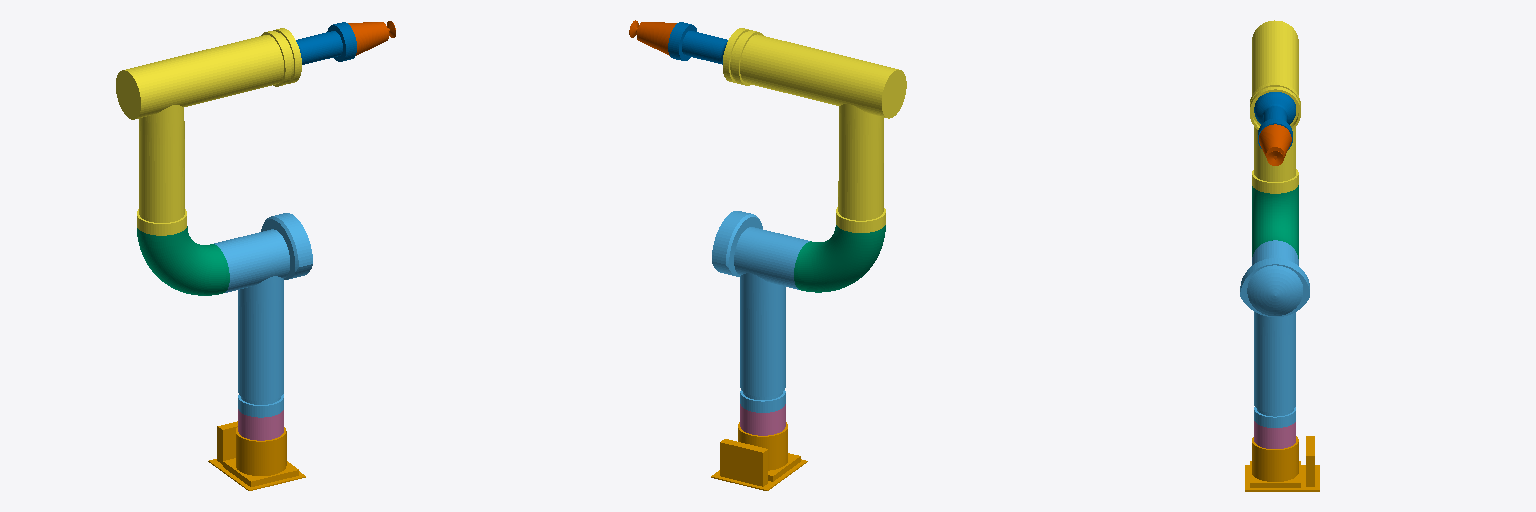
URDF robot description (ROBOT_FINAL):
<?xml version="1.0" ?>
<robot name="ROBOT_FINAL">

<material name="silver">
  <color rgba="0.700 0.700 0.700 1.000"/>
</material>

<link name="base_link">
  <inertial>
    <origin xyz="0.00861165624050476 0.03165198883833275 0.09085900142674198" rpy="0 0 0"/>
    <mass value="59.1763534960198"/>
    <inertia ixx="0.5034819245640307" iyy="0.34784665435084416" izz="0.5168101976932871" ixy="2.8102520310824275e-15" iyz="0.009585805374626555" ixz="2.851885394505871e-15"/>
  </inertial>
  <visual>
    <origin xyz="0 0 0" rpy="0 0 0"/>
    <geometry>
      <mesh filename="package://robot1/meshes/base_link.stl" scale="0.001 0.001 0.001"/>
    </geometry>
    <material name="silver"/>
    <material/>
  </visual>
  <collision>
    <origin xyz="0 0 0" rpy="0 0 0"/>
    <geometry>
      <mesh filename="package://robot1/meshes/base_link.stl" scale="0.001 0.001 0.001"/>
    </geometry>
  </collision>
</link>

<link name="link_21">
  <inertial>
    <origin xyz="0.006220231055899613 -3.6787391581756534e-07 0.07992479144085196" rpy="0 0 0"/>
    <mass value="146.86583673120967"/>
    <inertia ixx="4.65837345479477" iyy="5.6411159808055515" izz="1.9550553816715002" ixy="-3.221665925406264e-07" iyz="-7.389164304871798e-07" ixz="-0.18727235471533765"/>
  </inertial>
  <visual>
    <origin xyz="-0.008612 -0.006119 -0.78954" rpy="0 0 0"/>
    <geometry>
      <mesh filename="package://robot1/meshes/link21.stl" scale="0.001 0.001 0.001"/>
    </geometry>
    <material name="silver"/>
    <material/>
  </visual>
  <collision>
    <origin xyz="-0.008612 -0.006119 -0.78954" rpy="0 0 0"/>
    <geometry>
      <mesh filename="package://robot1/meshes/link21.stl" scale="0.001 0.001 0.001"/>
    </geometry>
  </collision>
</link>

<link name="link_31">
  <inertial>
    <origin xyz="-0.1652794828573811 -3.181455388474863e-07 0.08405601089867587" rpy="0 0 0"/>
    <mass value="96.59806143551319"/>
    <inertia ixx="0.9710338527616926" iyy="1.4630228641898668" izz="0.9749793186022746" ixy="-1.5892842597509116e-13" iyz="3.9546144137148076e-13" ixz="0.49155268323664103"/>
  </inertial>
  <visual>
    <origin xyz="0.191388 -0.006119 -0.93954" rpy="0 0 0"/>
    <geometry>
      <mesh filename="package://robot1/meshes/link31.stl" scale="0.001 0.001 0.001"/>
    </geometry>
    <material name="silver"/>
    <material/>
  </visual>
  <collision>
    <origin xyz="0.191388 -0.006119 -0.93954" rpy="0 0 0"/>
    <geometry>
      <mesh filename="package://robot1/meshes/link31.stl" scale="0.001 0.001 0.001"/>
    </geometry>
  </collision>
</link>

<link name="link_41">
  <inertial>
    <origin xyz="0.06331898441764205 -2.9122443602567355e-07 0.4291680063768162" rpy="0 0 0"/>
    <mass value="213.37931082123225"/>
    <inertia ixx="9.795105757696888" iyy="14.701278799091938" izz="6.041833365708506" ixy="-1.3324239700462925e-07" iyz="-9.086796382007378e-07" ixz="-2.3594740669290957"/>
  </inertial>
  <visual>
    <origin xyz="0.441386 -0.006119 -1.188536" rpy="0 0 0"/>
    <geometry>
      <mesh filename="package://robot1/meshes/link41.stl" scale="0.001 0.001 0.001"/>
    </geometry>
    <material name="silver"/>
    <material/>
  </visual>
  <collision>
    <origin xyz="0.441386 -0.006119 -1.188536" rpy="0 0 0"/>
    <geometry>
      <mesh filename="package://robot1/meshes/link41.stl" scale="0.001 0.001 0.001"/>
    </geometry>
  </collision>
</link>

<link name="link_51">
  <inertial>
    <origin xyz="0.31337225138445246 -3.181455412162512e-07 0.0012575542740496104" rpy="0 0 0"/>
    <mass value="118.41031598874119"/>
    <inertia ixx="0.4308140875560298" iyy="4.9386414583190685" izz="4.938568853789161" ixy="-3.414282745417552e-14" iyz="4.9960036108132044e-14" ixz="-0.018091121766683038"/>
  </inertial>
  <visual>
    <origin xyz="0.348795 -0.006119 -1.788913" rpy="0 0 0"/>
    <geometry>
      <mesh filename="package://robot1/meshes/link51.stl" scale="0.001 0.001 0.001"/>
    </geometry>
    <material name="silver"/>
    <material/>
  </visual>
  <collision>
    <origin xyz="0.348795 -0.006119 -1.788913" rpy="0 0 0"/>
    <geometry>
      <mesh filename="package://robot1/meshes/link51.stl" scale="0.001 0.001 0.001"/>
    </geometry>
  </collision>
</link>

<link name="link_61">
  <inertial>
    <origin xyz="0.06875914473525968 2.509923578626269e-06 0.00028490132131731016" rpy="0 0 0"/>
    <mass value="12.708092342308806"/>
    <inertia ixx="0.021449118758532393" iyy="0.03857816180068596" izz="0.03857764788600715" ixy="-4.317530442526918e-06" iyz="-6.06716571982524e-08" ixz="-8.266339350448959e-05"/>
  </inertial>
  <visual>
    <origin xyz="-0.401199 -0.006119 -1.791923" rpy="0 0 0"/>
    <geometry>
      <mesh filename="package://robot1/meshes/link61.stl" scale="0.001 0.001 0.001"/>
    </geometry>
    <material name="silver"/>
    <material/>
  </visual>
  <collision>
    <origin xyz="-0.401199 -0.006119 -1.791923" rpy="0 0 0"/>
    <geometry>
      <mesh filename="package://robot1/meshes/link61.stl" scale="0.001 0.001 0.001"/>
    </geometry>
  </collision>
</link>

<link name="link_11">
  <inertial>
    <origin xyz="-3.4375949598854094e-07 -3.1814553857860417e-07 0.2829190452384186" rpy="0 0 0"/>
    <mass value="89.33629219288787"/>
    <inertia ixx="2.9954713280699643" iyy="2.9954713280704475" izz="0.27597839519120504" ixy="-2.534517734575914e-14" iyz="4.624078897563777e-14" ixz="8.93729534823251e-15"/>
  </inertial>
  <visual>
    <origin xyz="-0.008612 -0.006119 -0.18954" rpy="0 0 0"/>
    <geometry>
      <mesh filename="package://robot1/meshes/link11.stl" scale="0.001 0.001 0.001"/>
    </geometry>
    <material name="silver"/>
    <material/>
  </visual>
  <collision>
    <origin xyz="-0.008612 -0.006119 -0.18954" rpy="0 0 0"/>
    <geometry>
      <mesh filename="package://robot1/meshes/link11.stl" scale="0.001 0.001 0.001"/>
    </geometry>
  </collision>
</link>

<joint name="Slider_1" type="prismatic">
  <origin xyz="0.0 0.0 0.6" rpy="0 0 0"/>
  <parent link="link_11"/>
  <child link="link_21"/>
  <axis xyz="-0.0 0.0 1.0"/>
  <limit upper="0.5" lower="0.0" effort="100" velocity="100"/>
</joint>
<transmission name="Slider_1_tran">
  <type>transmission_interface/SimpleTransmission</type>
  <joint name="Slider_1">
    <hardwareInterface>PositionJointInterface</hardwareInterface>
  </joint>
  <actuator name="Slider_1_actr">
    <hardwareInterface>PositionJointInterface</hardwareInterface>
    <mechanicalReduction>1</mechanicalReduction>
  </actuator>
</transmission>

<joint name="Revolute_2" type="continuous">
  <origin xyz="-0.2 0.0 0.15" rpy="0 0 0"/>
  <parent link="link_21"/>
  <child link="link_31"/>
  <axis xyz="-1.0 -0.0 -0.0"/>
</joint>
<transmission name="Revolute_2_tran">
  <type>transmission_interface/SimpleTransmission</type>
  <joint name="Revolute_2">
    <hardwareInterface>PositionJointInterface</hardwareInterface>
  </joint>
  <actuator name="Revolute_2_actr">
    <hardwareInterface>PositionJointInterface</hardwareInterface>
    <mechanicalReduction>1</mechanicalReduction>
  </actuator>
</transmission>

<joint name="Revolute_3" type="continuous">
  <origin xyz="-0.249998 0.0 0.248996" rpy="0 0 0"/>
  <parent link="link_31"/>
  <child link="link_41"/>
  <axis xyz="-0.004013 0.0 0.999992"/>
</joint>
<transmission name="Revolute_3_tran">
  <type>transmission_interface/SimpleTransmission</type>
  <joint name="Revolute_3">
    <hardwareInterface>PositionJointInterface</hardwareInterface>
  </joint>
  <actuator name="Revolute_3_actr">
    <hardwareInterface>PositionJointInterface</hardwareInterface>
    <mechanicalReduction>1</mechanicalReduction>
  </actuator>
</transmission>

<joint name="Slider_4" type="prismatic">
  <origin xyz="0.092591 0.0 0.600377" rpy="0 0 0"/>
  <parent link="link_41"/>
  <child link="link_51"/>
  <axis xyz="0.999992 0.0 0.004013"/>
  <limit upper="0.35" lower="0.0" effort="100" velocity="100"/>
</joint>
<transmission name="Slider_4_tran">
  <type>transmission_interface/SimpleTransmission</type>
  <joint name="Slider_4">
    <hardwareInterface>PositionJointInterface</hardwareInterface>
  </joint>
  <actuator name="Slider_4_actr">
    <hardwareInterface>PositionJointInterface</hardwareInterface>
    <mechanicalReduction>1</mechanicalReduction>
  </actuator>
</transmission>

<joint name="Revolute_6" type="continuous">
  <origin xyz="0.749994 0.0 0.00301" rpy="0 0 0"/>
  <parent link="link_51"/>
  <child link="link_61"/>
  <axis xyz="0.999992 0.0 0.004013"/>
</joint>
<transmission name="Revolute_6_tran">
  <type>transmission_interface/SimpleTransmission</type>
  <joint name="Revolute_6">
    <hardwareInterface>PositionJointInterface</hardwareInterface>
  </joint>
  <actuator name="Revolute_6_actr">
    <hardwareInterface>PositionJointInterface</hardwareInterface>
    <mechanicalReduction>1</mechanicalReduction>
  </actuator>
</transmission>

<joint name="Revolute_1" type="continuous">
  <origin xyz="0.008612 0.006119 0.18954" rpy="0 0 0"/>
  <parent link="base_link"/>
  <child link="link_11"/>
  <axis xyz="-0.0 0.0 1.0"/>
</joint>
<transmission name="Revolute_1_tran">
  <type>transmission_interface/SimpleTransmission</type>
  <joint name="Revolute_1">
    <hardwareInterface>PositionJointInterface</hardwareInterface>
  </joint>
  <actuator name="Revolute_1_actr">
    <hardwareInterface>PositionJointInterface</hardwareInterface>
    <mechanicalReduction>1</mechanicalReduction>
  </actuator>
</transmission>

</robot>

--- Render facts (derived) ---
Views: 3 orthographic renders of the robot side by side, from view 1: azimuth 30°, elevation 25°; view 2: azimuth 150°, elevation 25°; view 3: azimuth 270°, elevation 25°.
Model ROBOT_FINAL with 7 links and 6 joints (4 continuous, 2 prismatic), rooted at base_link, posed every joint at zero.
Visible links, largest first — view 1: link_41, link_21, link_31, base_link, link_51, link_11, link_61; view 2: link_41, link_21, link_31, base_link, link_51, link_11, link_61; view 3: link_21, link_41, base_link, link_31, link_51, link_61, link_11.
Boxes of the visible links, x1,y1,x2,y2 form: link_41: [116, 28, 301, 235]; link_21: [214, 213, 312, 417]; link_31: [137, 226, 229, 295]; base_link: [208, 421, 305, 490]; link_51: [296, 22, 356, 64]; link_11: [238, 409, 283, 440]; link_61: [348, 21, 395, 55]; link_41: [723, 28, 906, 232]; link_21: [712, 211, 809, 412]; link_31: [794, 225, 885, 292]; base_link: [711, 422, 807, 490]; link_51: [668, 22, 727, 64]; link_11: [740, 404, 785, 435]; link_61: [629, 20, 676, 55]; link_21: [1240, 240, 1309, 427]; link_41: [1250, 20, 1300, 193]; base_link: [1245, 436, 1319, 491]; link_31: [1252, 185, 1298, 258]; link_51: [1254, 92, 1295, 149]; link_61: [1259, 124, 1291, 165]; link_11: [1254, 421, 1295, 448].
Bounding box of the posed robot: 1.2 × 0.34 × 1.89 m (x, y, z).
7 mesh visuals loaded from 7 distinct referenced files (7 binary STL).